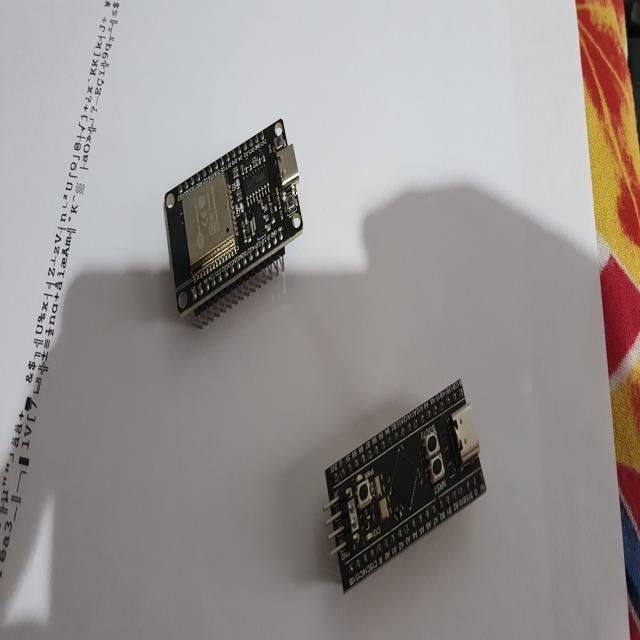ESP32: (166, 120, 304, 317)
STM32: (325, 381, 485, 592)
